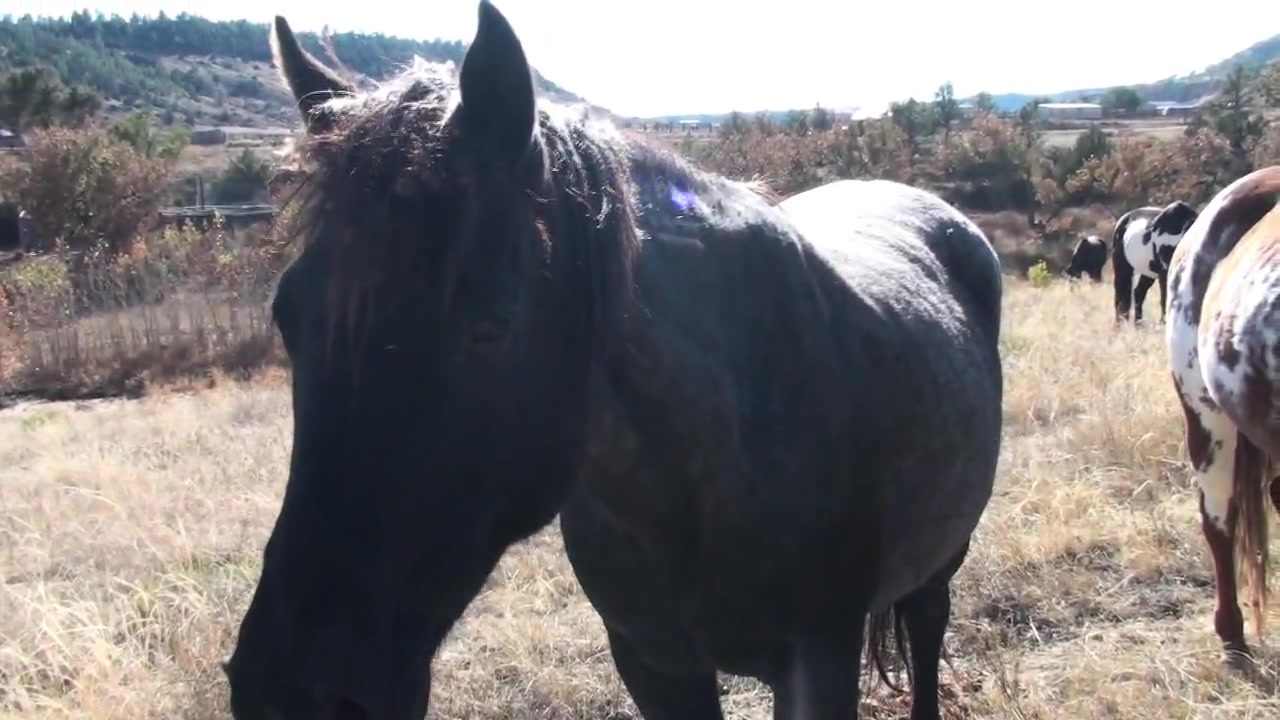horse: (220, 3, 1007, 720)
